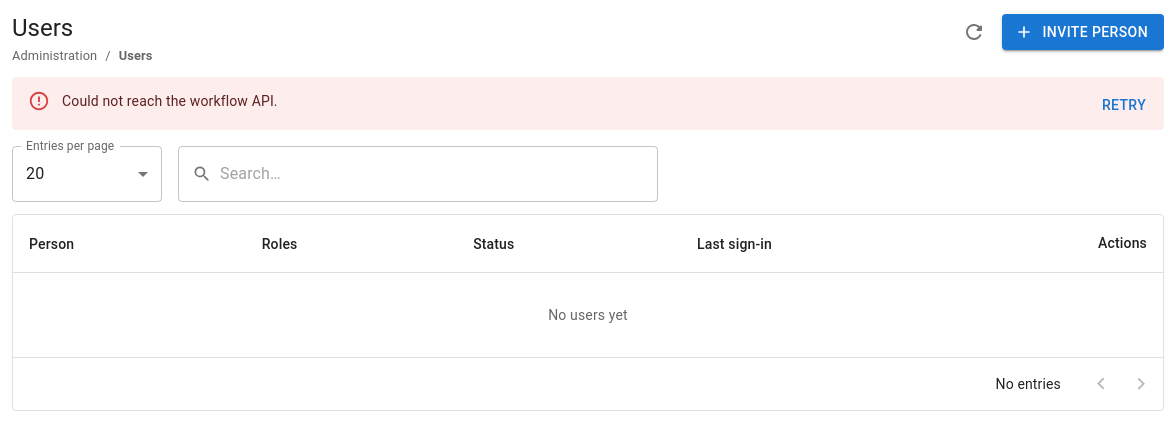
Scenario: UsersPage › shows a message and lets you retry when the list cannot be loaded
Check: the text "Could not reach the workflow API." is shown, box [62, 93, 278, 109]
Click the button "Retry": (1124, 105) [1092, 87, 1156, 124]
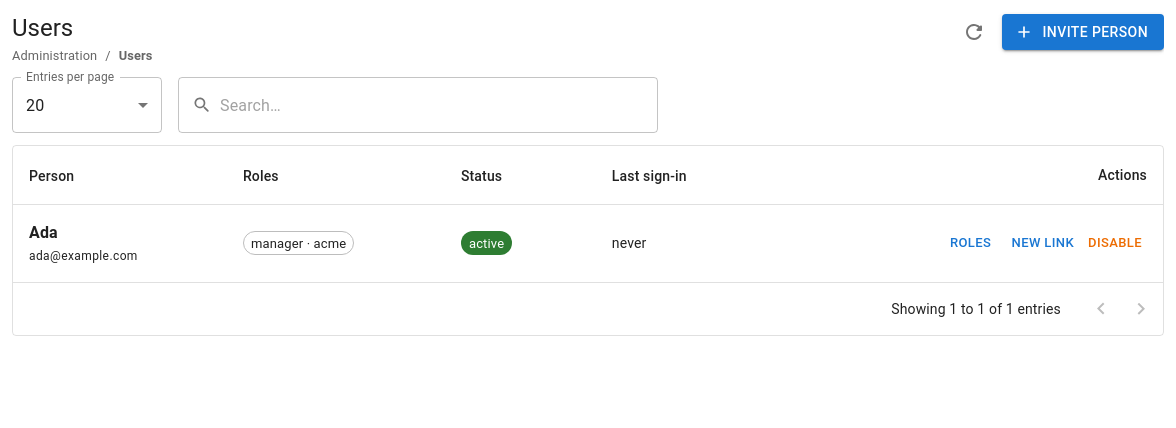
Check: the text "Ada" is shown, box [29, 222, 58, 242]
